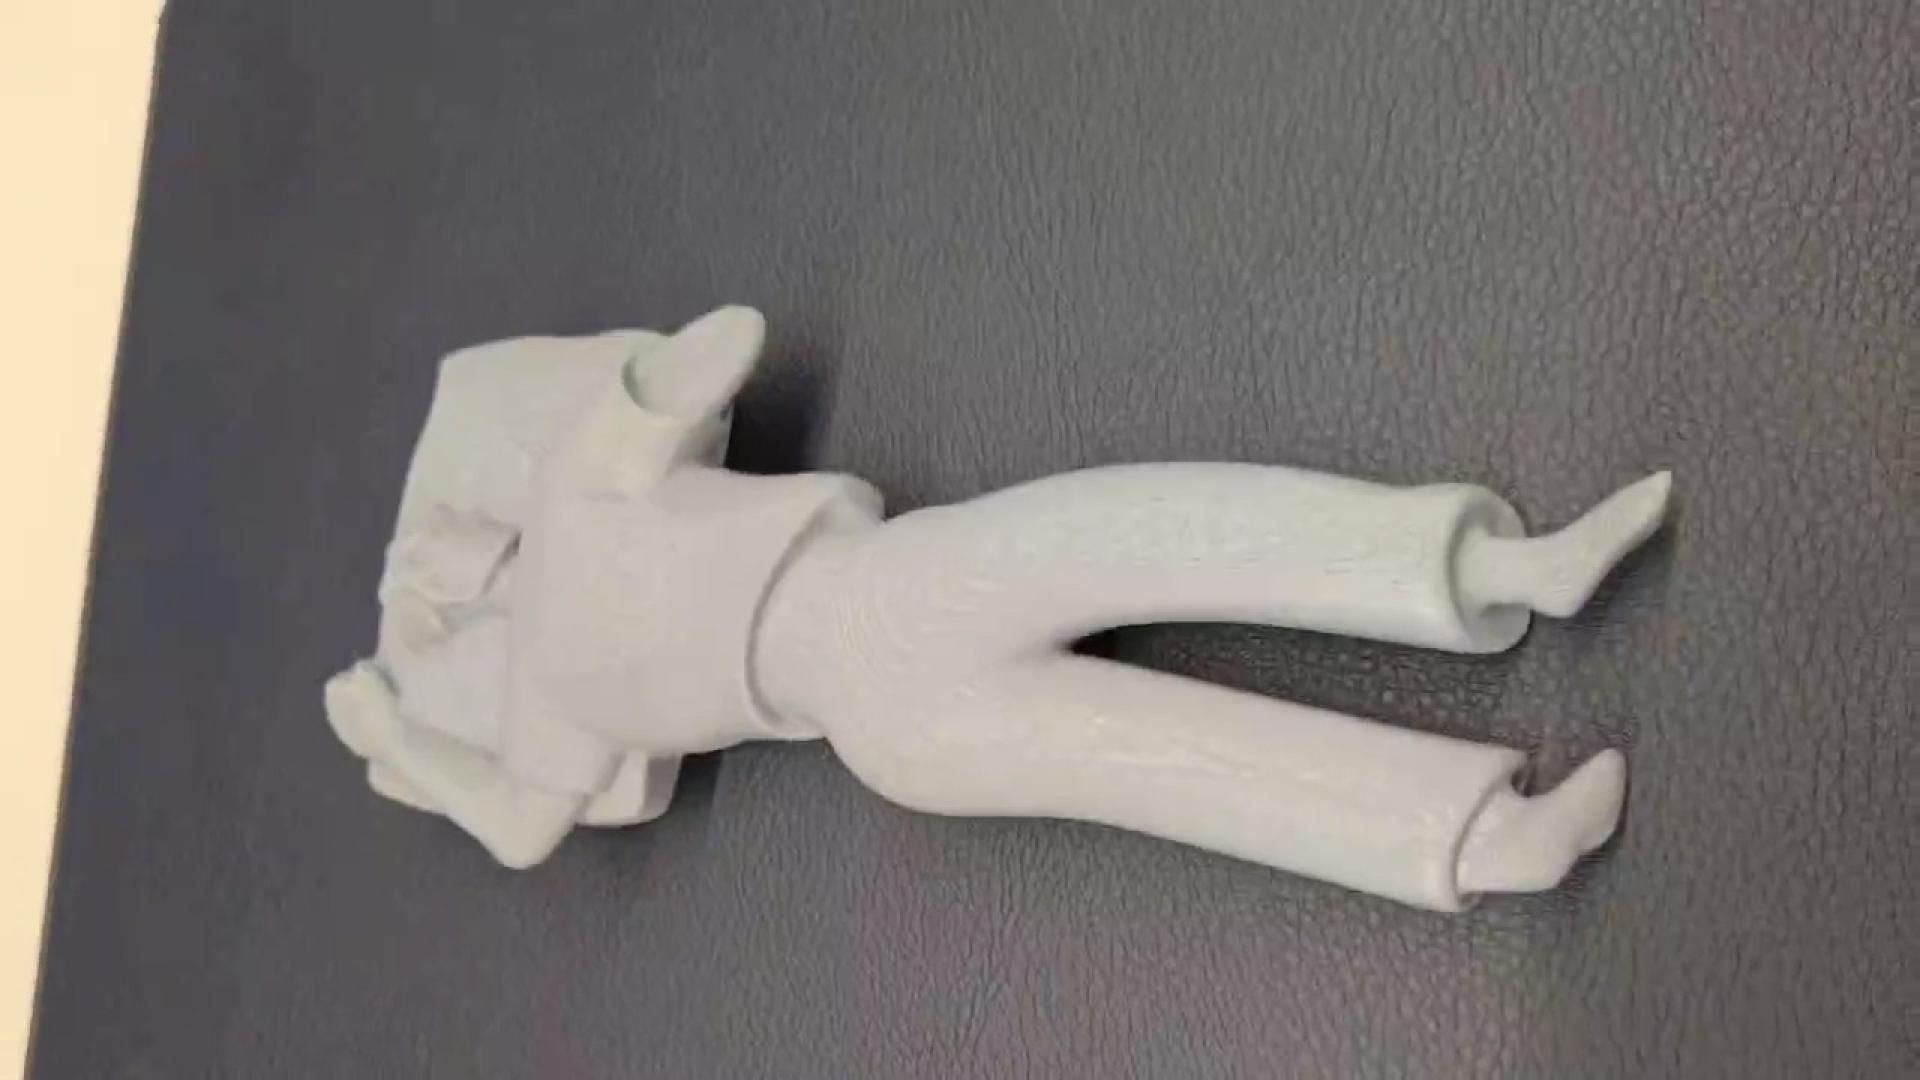Bad-style: (315, 298, 1685, 957)
